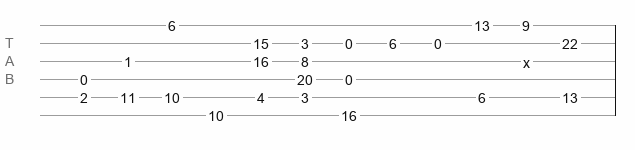0: (80, 72, 88, 82), (345, 72, 353, 82), (345, 36, 353, 46), (434, 36, 442, 46)
1: (124, 54, 132, 64)
10: (164, 90, 180, 100), (208, 108, 224, 118)
11: (120, 90, 136, 100)
13: (474, 18, 490, 28), (562, 90, 578, 100)
15: (253, 36, 269, 46)
16: (253, 54, 269, 64), (341, 108, 357, 118)
2: (80, 90, 88, 100)
20: (297, 72, 313, 82)
22: (562, 36, 578, 46)
3: (301, 90, 309, 100), (301, 36, 309, 46)
4: (257, 90, 265, 100)
6: (168, 18, 176, 28), (389, 36, 397, 46), (478, 90, 486, 100)
8: (301, 54, 309, 64)
9: (522, 18, 530, 28)
x: (523, 55, 530, 63)
